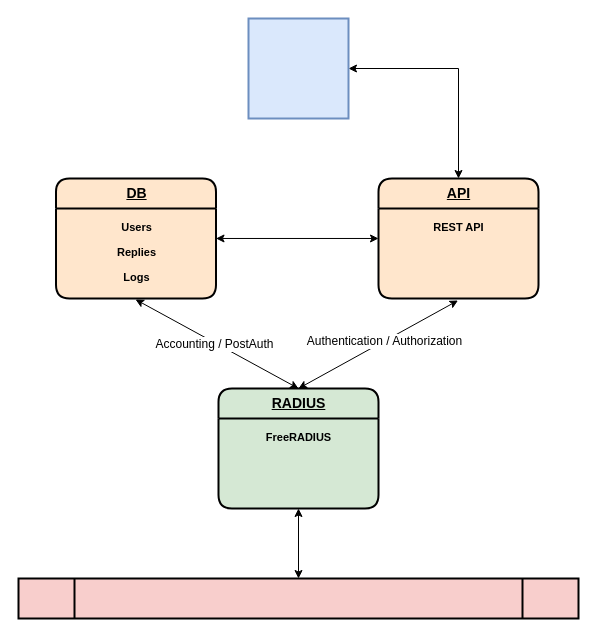
Image size: 596x636. Some labels were removed from this diagram. Each missing label, with the box of its shape:
Network Device: (17, 577, 579, 619)
WebUI: (247, 17, 349, 119)
